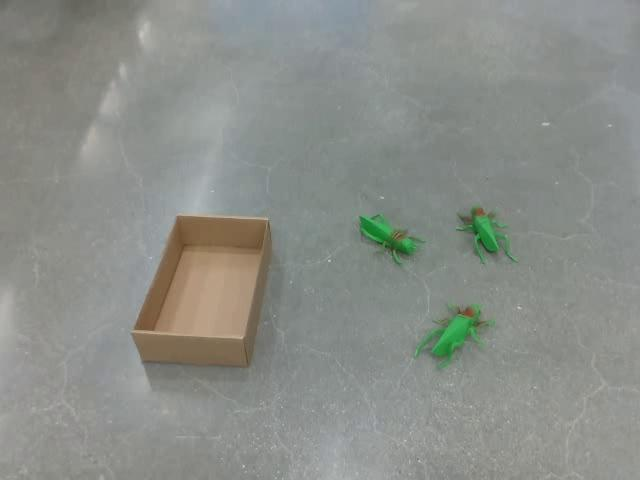box: (129, 213, 272, 368)
grasshopper: (413, 301, 495, 369), (454, 205, 518, 265), (357, 212, 426, 265)
